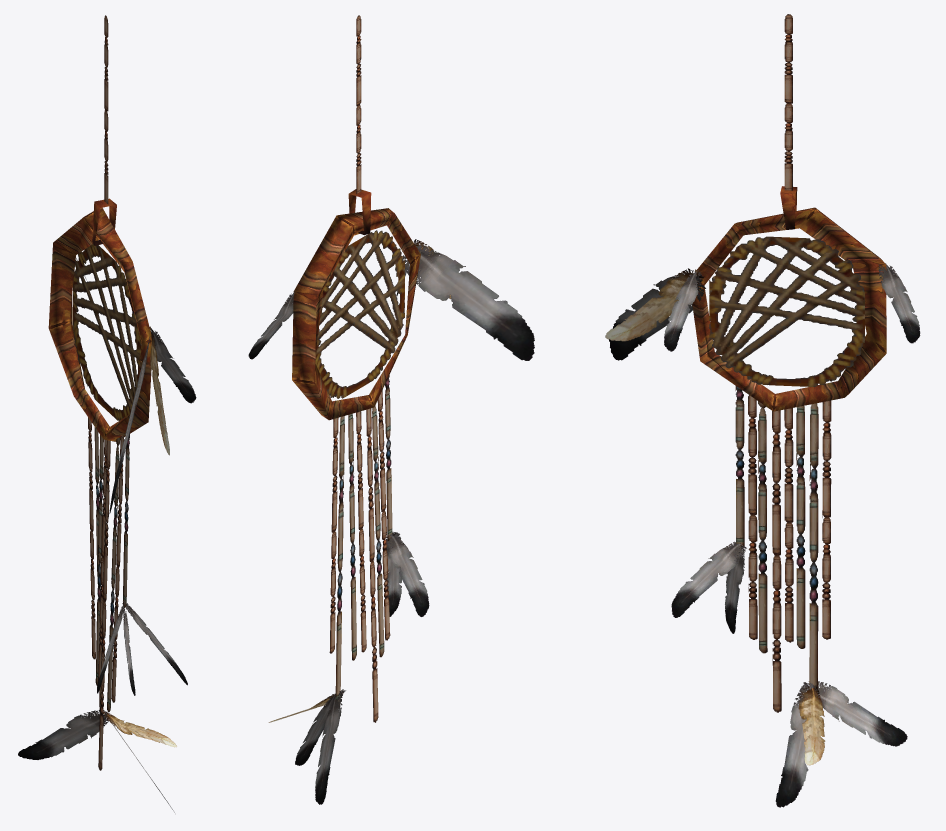
Rendered from dreamcatcher03.obj.
The picture shows the model from 3 angles, left to right: view 1: azimuth 30°, elevation 25°; view 2: azimuth 150°, elevation 25°; view 3: azimuth 270°, elevation 25°; orthographic projection. The views are drawn at different scales.
Visible parts, largest first — view 1: dreamcatcher03; view 2: dreamcatcher03; view 3: dreamcatcher03.
Part boxes in pixels (<box>): dreamcatcher03: <box>18,15,196,812</box>; dreamcatcher03: <box>248,15,534,804</box>; dreamcatcher03: <box>605,14,920,807</box>.
Size of the model in its own units: 1.21 by 4.79 by 1.94.
1 material, 1 textured.
